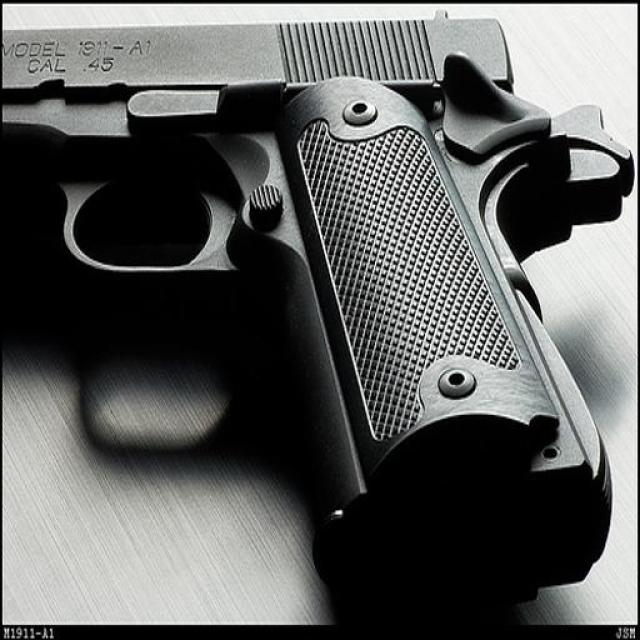pistol: (1, 8, 631, 604)
